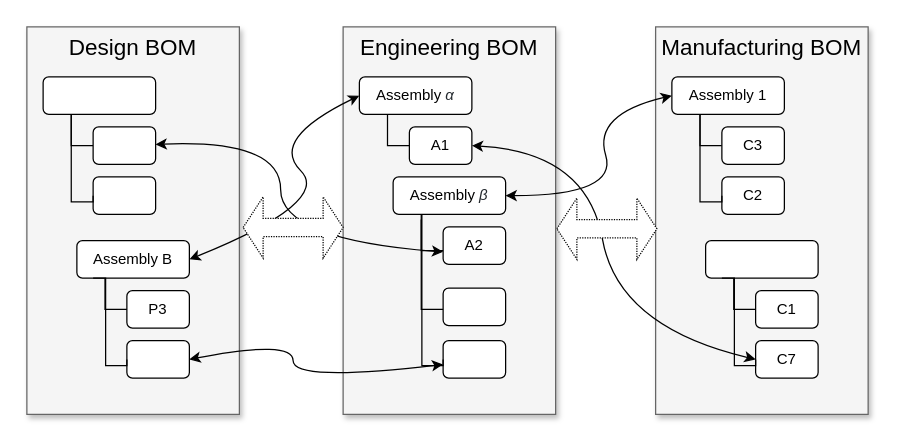
This 898x445 diagram has some shape labels left out. Each missing label, with the centre of its shape:
"A3" belongs at point 474,306.
"A4" belongs at point 474,358.
"Assembly 2" belongs at point 761,258.
"Assembly A" belongs at point 99,95.
"P1" belongs at point 124,145.
"P2" belongs at point 124,195.
"P4" belongs at point 157,358.
